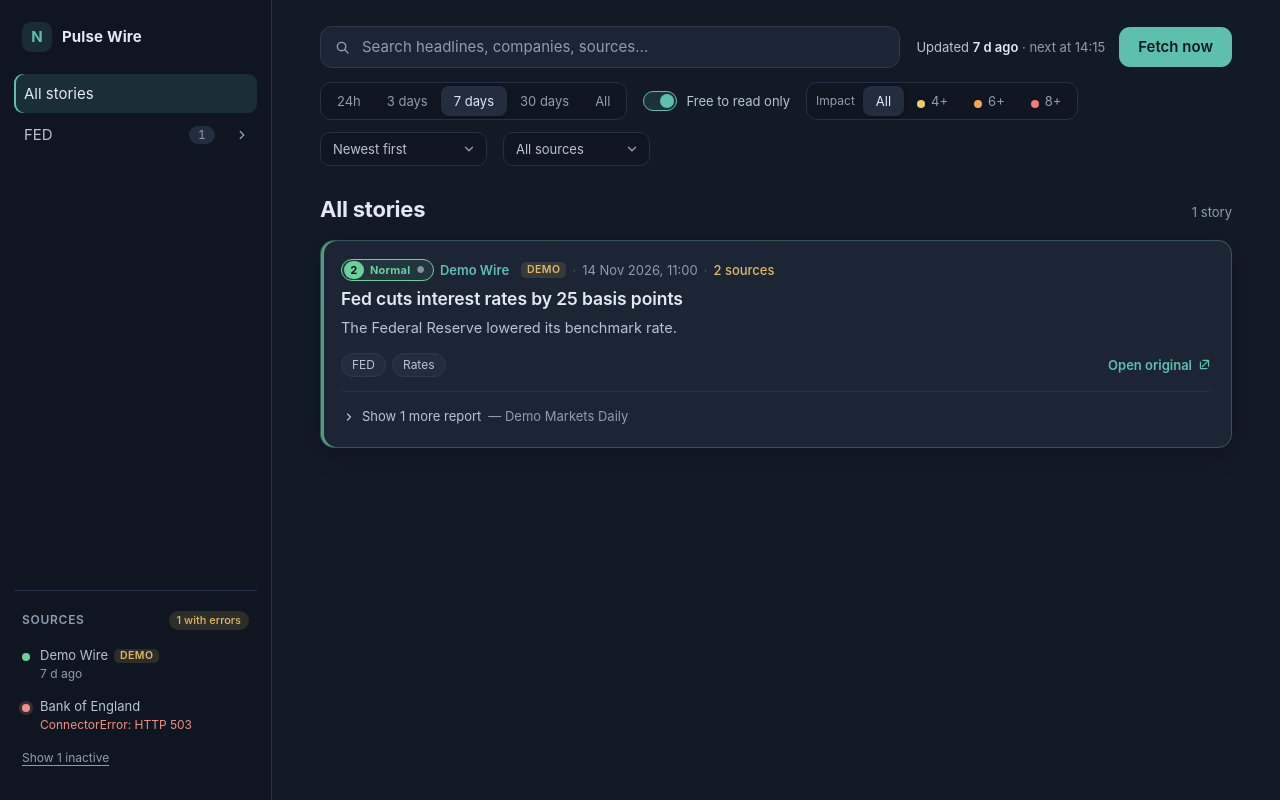
Test: impact score and colours › filters by minimum impact and sorts by importance
Later steps or results of the test are not shown.
Expected: the heading "Fed cuts interest rates by 25 basis points" is shown, x1=341 y1=288 x2=683 y2=309
Click the radio button named "Impact 6+" at (989,101), box x1=961 y1=86 x2=1018 y2=116
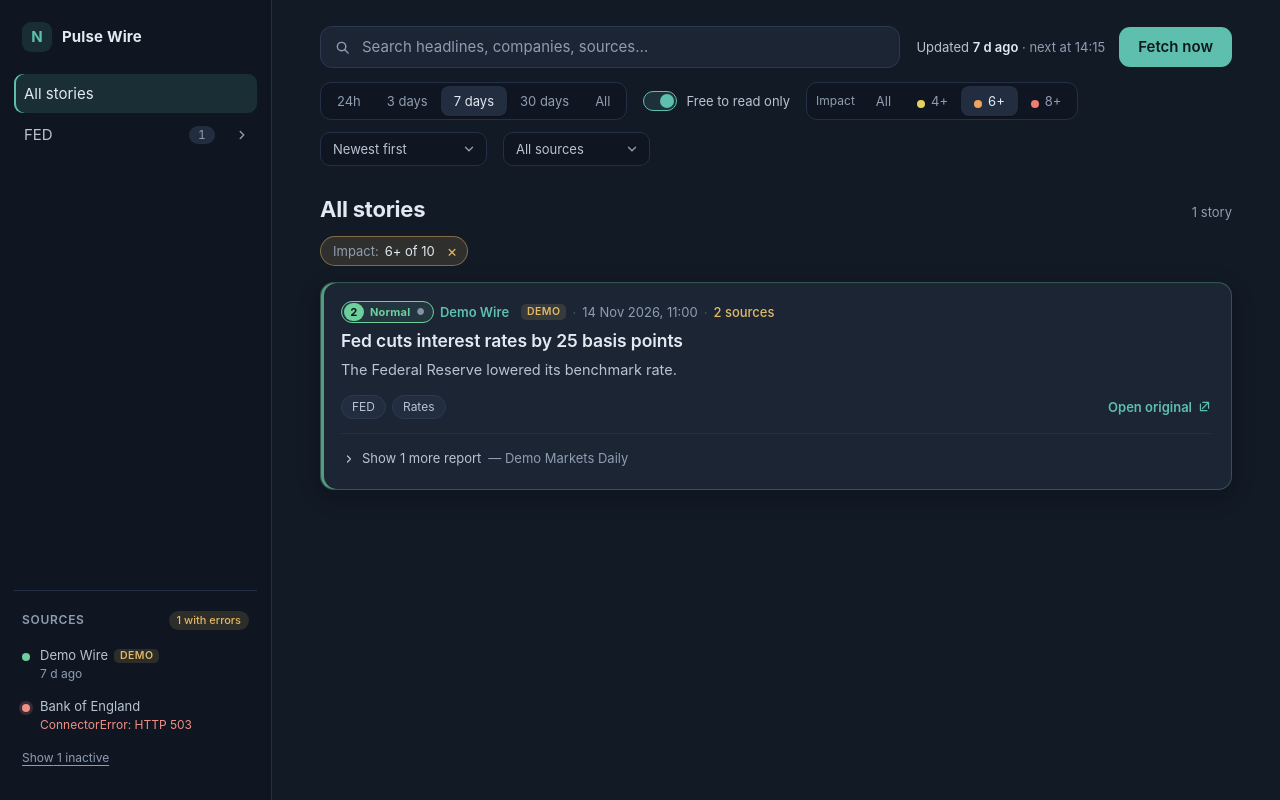
Now the text "6+ of 10" is shown, box x1=385 y1=243 x2=435 y2=259
